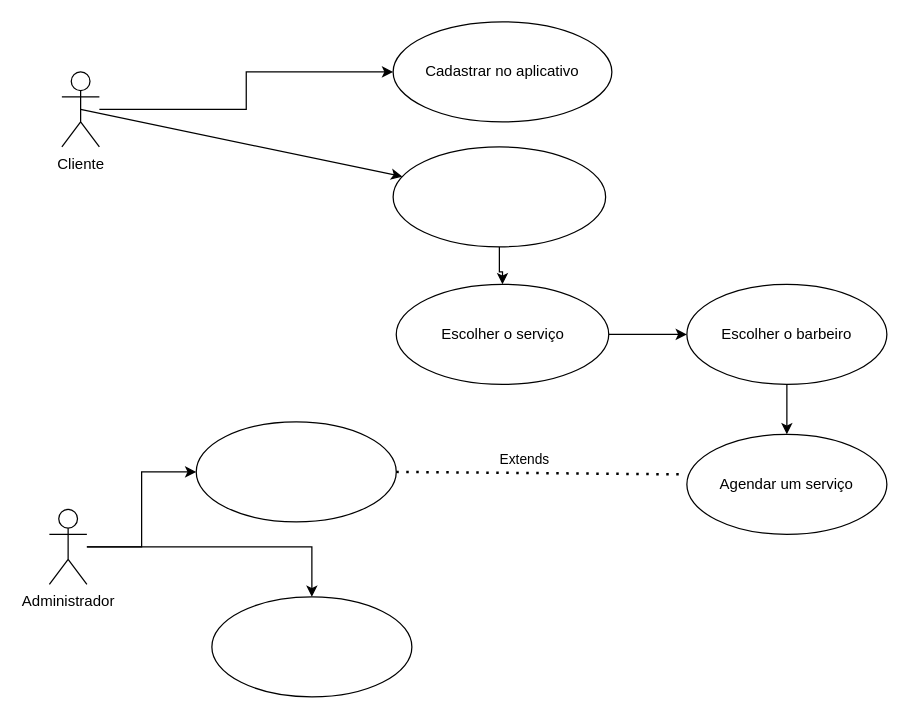
Some shapes in this 909 by 719 pixel diagram are drawn without their labels. The shapes that lost their labels are listed below. From the top down, each one's centre as x and y in pixels, then its label:
At point 499,196: "Fazer login no sistema".
At point 295,471: "Gerenciar serviços".
At point 311,646: "Gerenciar usuarios".
